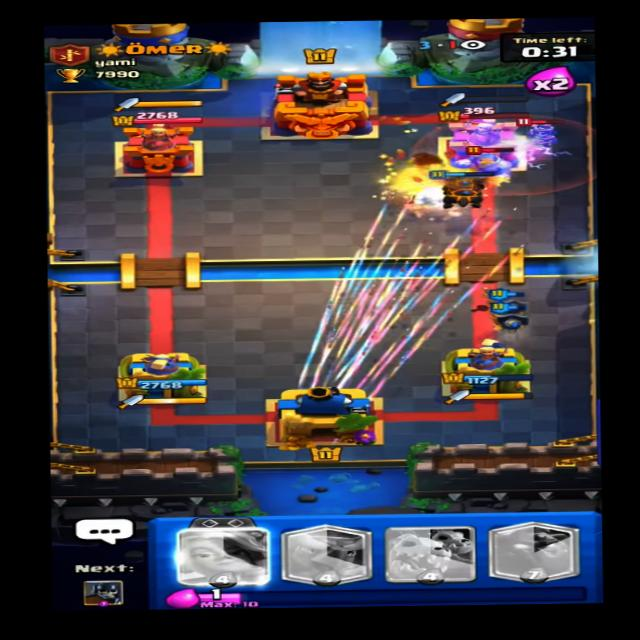Knight: (449, 144, 518, 188)
Littleprince: (520, 113, 570, 152)
